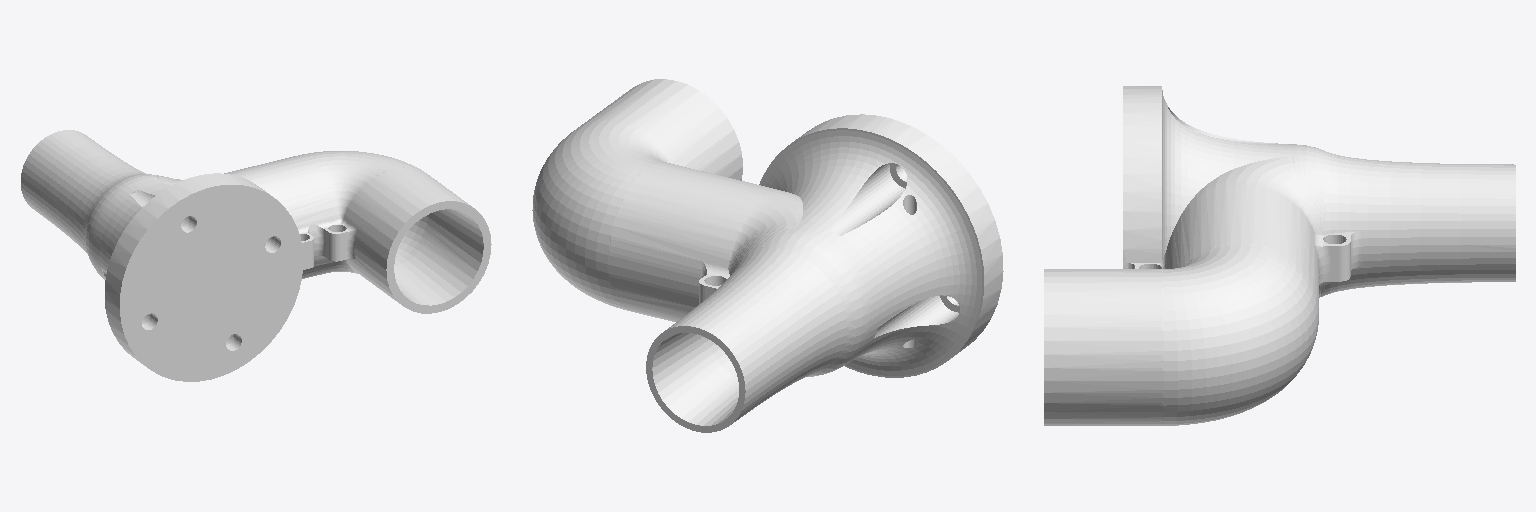
The robot description file, URDF, robot "vacuum":
<?xml version="1.0" encoding="utf-8"?>
<!-- This URDF was automatically created by SolidWorks to URDF Exporter! Originally created by [author] ([email redacted]) 
     Commit Version: 1.6.0-1-g15f4949  Build Version: 1.6.7594.29634
     For more information, please see http://wiki.ros.org/sw_urdf_exporter -->
<robot
  name="vacuum">
  <link
    name="vacuum_base_link">
    <inertial>
      <origin
        xyz="6.517E-09 -0.014367 0.027764"
        rpy="0 0 0" />
      <mass
        value="0.097429" />
      <inertia
        ixx="0.00011904"
        ixy="-3.2786E-12"
        ixz="-1.6419E-11"
        iyy="0.000148"
        iyz="1.9632E-05"
        izz="0.00010905" />
    </inertial>
    <visual>
      <origin
        xyz="-0.035 -0.02 -0.035"
        rpy="0 0 0" />
      <geometry>
        <mesh
          filename="package://vacuum/meshes/tool.STL" scale="0.001 0.001 0.001"/>
      </geometry>
      <material
        name="">
        <color
          rgba="0.96078 0.96078 0.96471 1" />
      </material>
    </visual>
    <collision>
      <origin
        xyz="0 0 0"
        rpy="0 0 0" />
      <geometry>
        <mesh
          filename="package://vacuum/meshes/tool.STL" scale="0.001 0.001 0.001"/>
      </geometry>
    </collision>
  </link>



  <link
    name="vacuum_tcp">
  </link>




  <joint
    name="camera_joint"
    type="fixed">
    <origin
      xyz="0 0.15 0"
      rpy="0 0 0" />
    <parent
      link="vacuum_base_link" />
    <child
      link="vacuum_tcp" />
   
  </joint>
</robot>

--- What the picture shows (computed from the rendered views, not written in the file) ---
The picture shows the robot from 3 angles, left to right: view 1: azimuth 30°, elevation 25°; view 2: azimuth 150°, elevation 25°; view 3: azimuth 270°, elevation 25°; orthographic projection.
Robot: vacuum — 2 links, 1 joints (1 fixed); root link vacuum_base_link; default pose: every joint at zero.
Links seen in each view (by area): view 1: vacuum_base_link; view 2: vacuum_base_link; view 3: vacuum_base_link.
Boxes of the visible links, bbox=[...] form: vacuum_base_link: bbox=[21, 130, 491, 381]; vacuum_base_link: bbox=[532, 79, 1003, 432]; vacuum_base_link: bbox=[1044, 86, 1515, 425].
Bounding box of the posed robot: 0.13 × 0.12 × 0.07 m (x, y, z).
Meshes: 1 distinct files referenced, 1 mesh visuals loaded (1 binary STL).